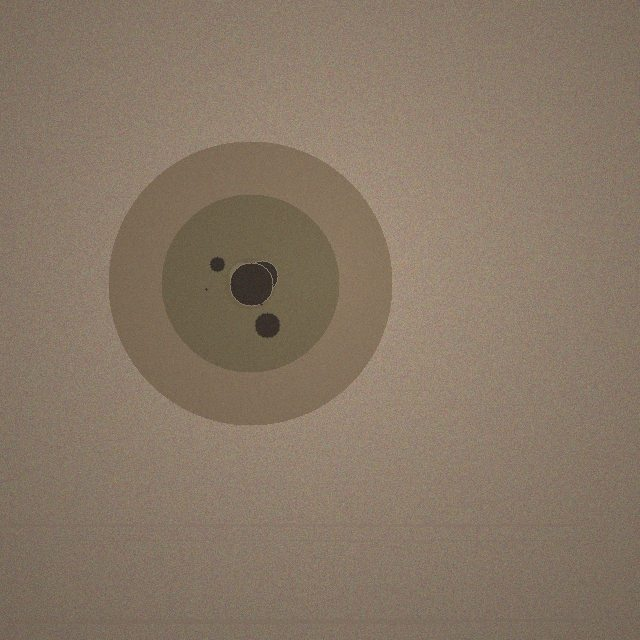shrinkage: (108, 141, 392, 425)
